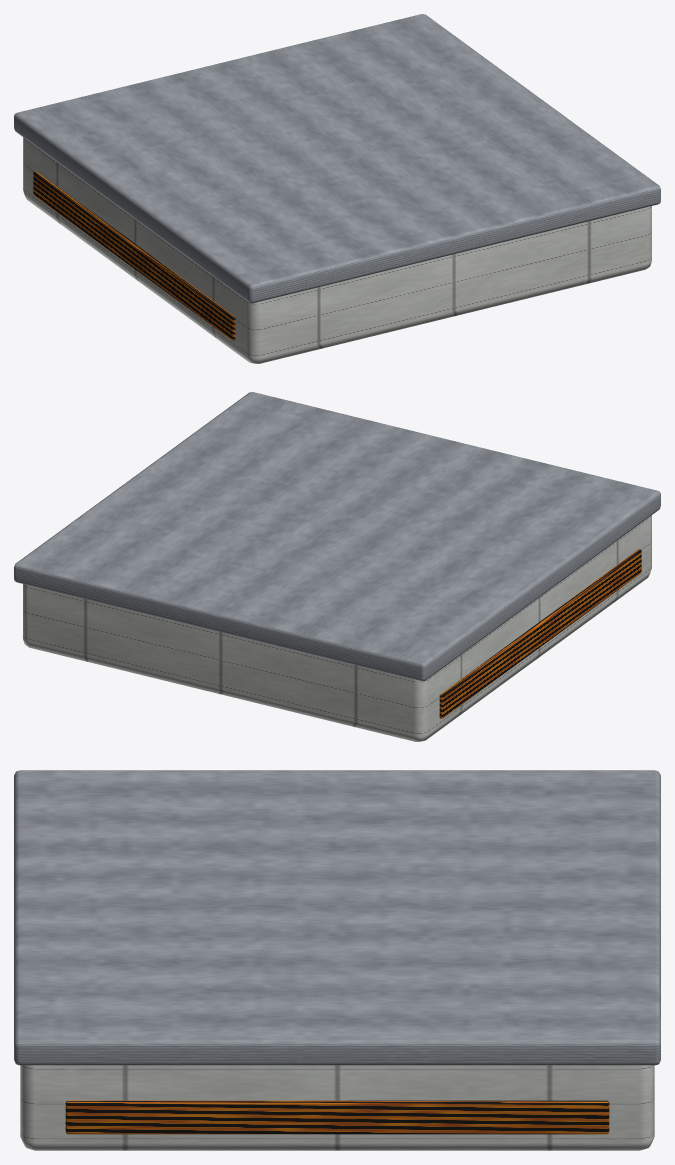
File: room_l1_img2_ceiling_service_light.glb
3 views of the same model, one above another, from view 1: azimuth 30°, elevation 25°; view 2: azimuth 150°, elevation 25°; view 3: azimuth 270°, elevation 25° (orthographic). The views are drawn at different scales.
Parts seen in each view (by area): view 1: ceiling_mount_plate, enamel_housing, hazard_edge_0; view 2: ceiling_mount_plate, enamel_housing, hazard_edge_0; view 3: ceiling_mount_plate, enamel_housing, hazard_edge_1.
Part boxes in pixels (left/top/right/bottom): ceiling_mount_plate: left=14, top=14, right=660, bottom=303; enamel_housing: left=23, top=137, right=651, bottom=363; hazard_edge_0: left=33, top=171, right=235, bottom=340; ceiling_mount_plate: left=14, top=392, right=660, bottom=681; enamel_housing: left=23, top=515, right=651, bottom=741; hazard_edge_0: left=439, top=549, right=641, bottom=718; ceiling_mount_plate: left=14, top=770, right=660, bottom=1065; enamel_housing: left=20, top=1065, right=654, bottom=1150; hazard_edge_1: left=65, top=1100, right=609, bottom=1134.
Size of the model in its own units: 0.9 by 0.225 by 0.9.
Materials: 7 (6 with a texture image).
